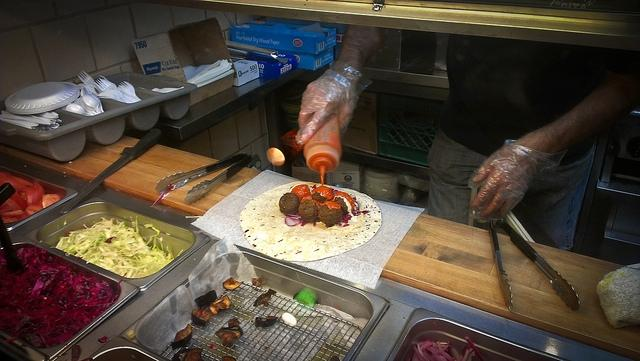lettuce: (56, 216, 174, 278), (97, 242, 113, 246), (118, 260, 122, 266)
onion: (438, 340, 452, 358), (284, 216, 296, 226), (431, 346, 438, 361), (425, 348, 433, 356)
